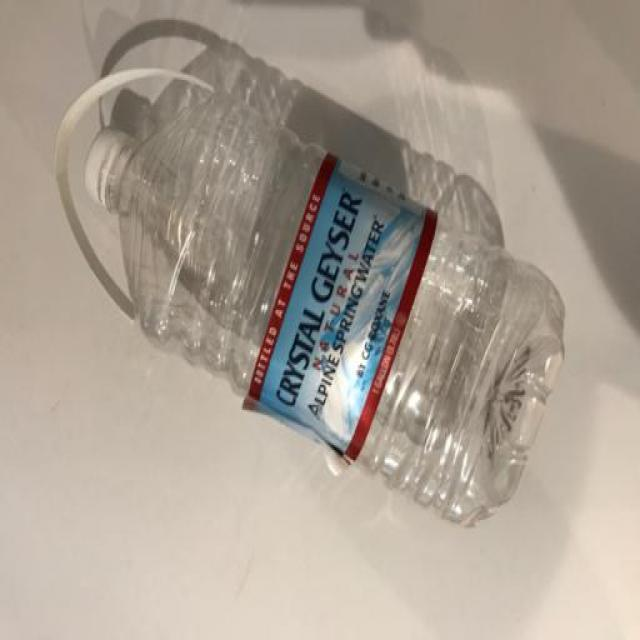BotolPlastik: (55, 19, 567, 528)
